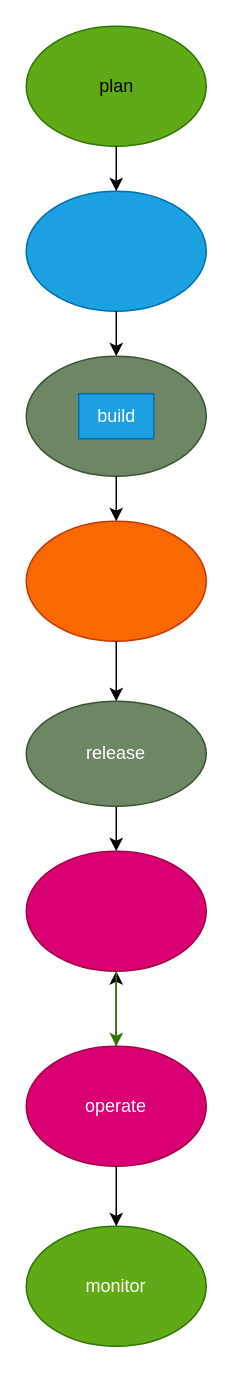
The diagram is 233 pixels wide and 1373 high, and some of its shapes have lost their labels. Each missing label, with the centre of its shape:
"deployment" goes at point 115,910.
"design" goes at point 115,250.
"test" goes at point 115,580.
